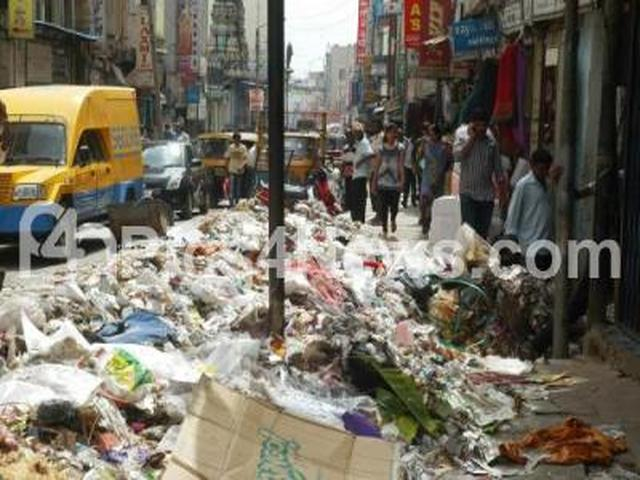garbage: (17, 296, 188, 448), (297, 307, 451, 400)
